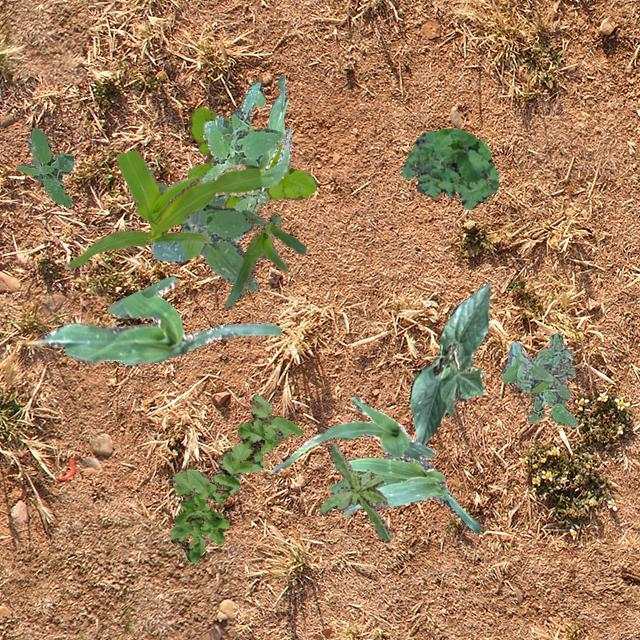crop: (64, 150, 260, 268), (39, 276, 280, 364), (410, 280, 490, 446), (270, 394, 434, 472), (328, 456, 479, 532), (222, 208, 306, 308), (256, 74, 292, 188)
weed: (170, 394, 302, 562), (130, 182, 258, 290), (186, 106, 316, 208), (198, 80, 284, 212), (401, 126, 498, 208), (318, 442, 392, 542), (526, 332, 576, 426), (16, 127, 74, 206), (501, 340, 574, 400), (229, 233, 241, 240)
